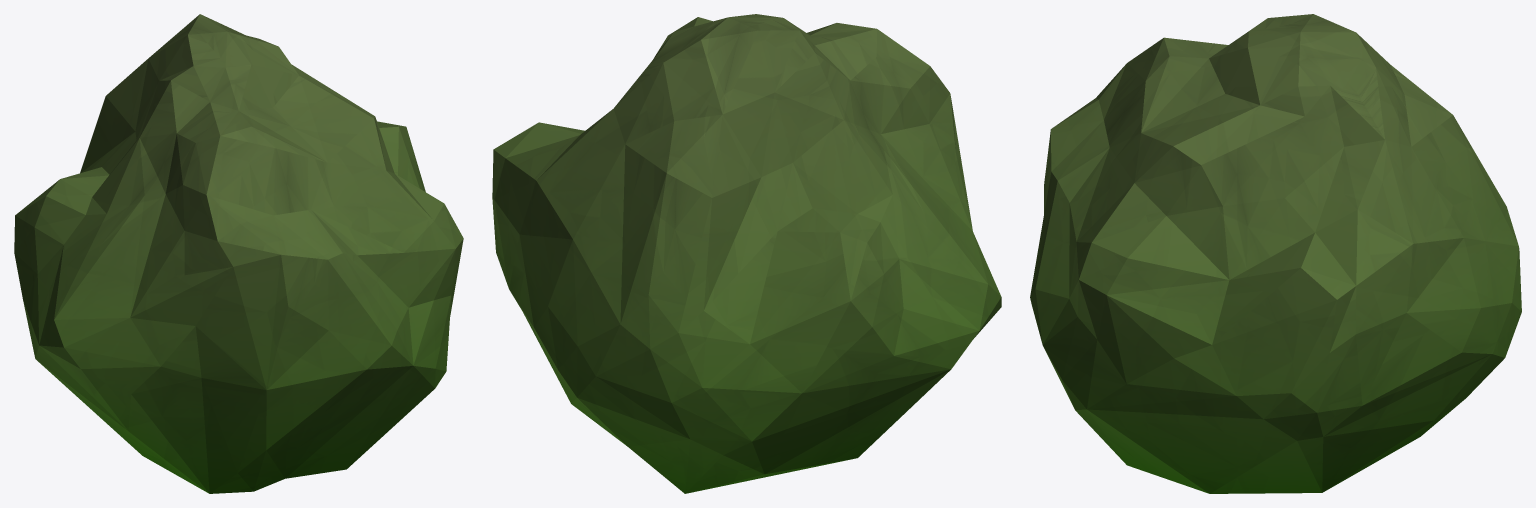
Rendered from synty-plant-hedge-bush-02.gltf.
3 views of the same model, side by side, from view 1: azimuth 30°, elevation 25°; view 2: azimuth 150°, elevation 25°; view 3: azimuth 270°, elevation 25° (orthographic). The views are drawn at different scales.
Parts seen in each view (by area): view 1: SM_Plant_Hedge_Bush_02; view 2: SM_Plant_Hedge_Bush_02; view 3: SM_Plant_Hedge_Bush_02.
Part boxes in pixels (box(x1,y1,x2,y2)): SM_Plant_Hedge_Bush_02: box(14, 14, 463, 493); SM_Plant_Hedge_Bush_02: box(492, 14, 1001, 493); SM_Plant_Hedge_Bush_02: box(1030, 14, 1521, 493).
Size of the model in its own units: 1.92 by 1.73 by 1.87.
1 material, 1 textured.
